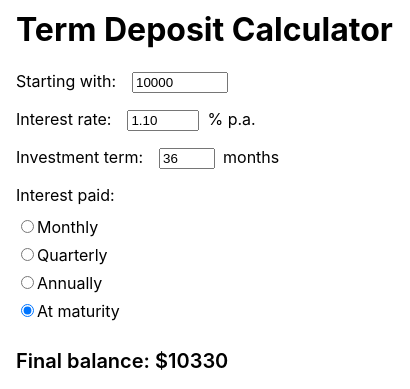
it: updates final balance when inputs change
The image size is (410, 389).
Replace the text in the number field labelled "Starting with:" with "20000" at (180,82), box x1=132 y1=72 x2=228 y2=93
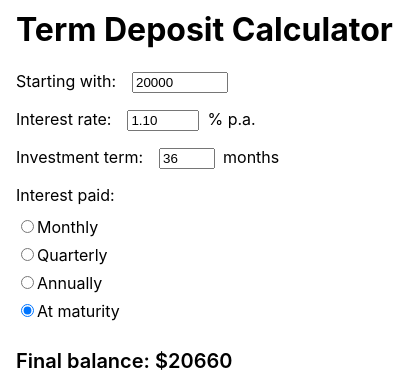
Expected: the text "Final balance: $20660" is shown, x1=16 y1=349 x2=232 y2=373
Replace the text in the number field labelled "Interest rate: % p.a." with "2.2" at (164,120), box x1=128 y1=110 x2=200 y2=131
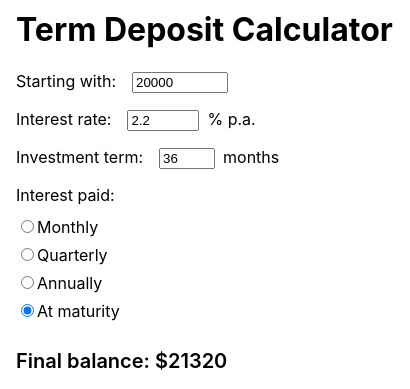
Expected: the text "Final balance: $21320" is shown, x1=16 y1=349 x2=227 y2=373
Replace the text in the number field labelled "Investment term: months" with "22" at (187,158), box x1=159 y1=148 x2=215 y2=169
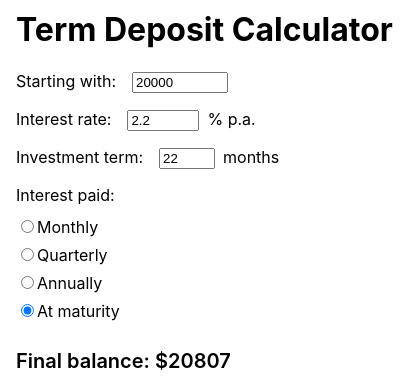
Expected: the text "Final balance: $20807" is shown, x1=16 y1=349 x2=231 y2=373
Click the radio button labelled "Monthly" at (28,226), box x1=21 y1=220 x2=34 y2=233
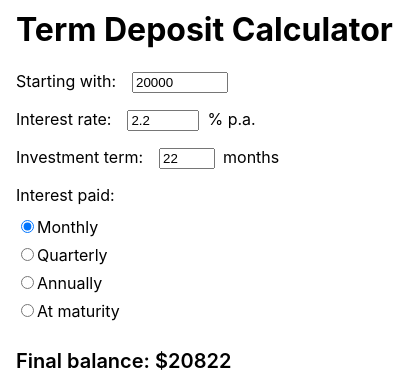
Expected: the text "Final balance: $20822" is shown, x1=16 y1=349 x2=231 y2=373
